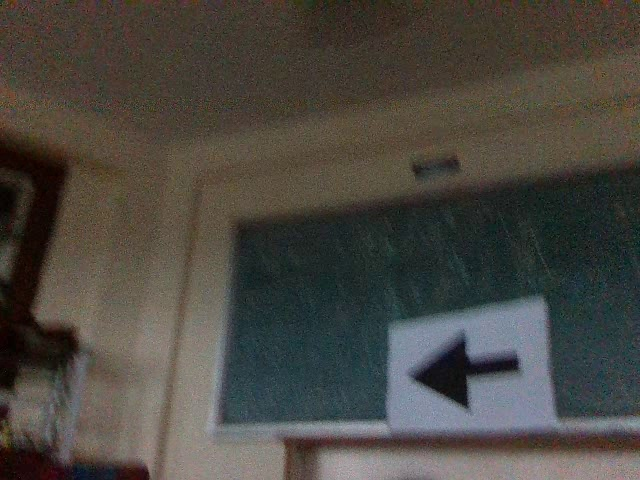Left: (400, 329, 525, 415)
